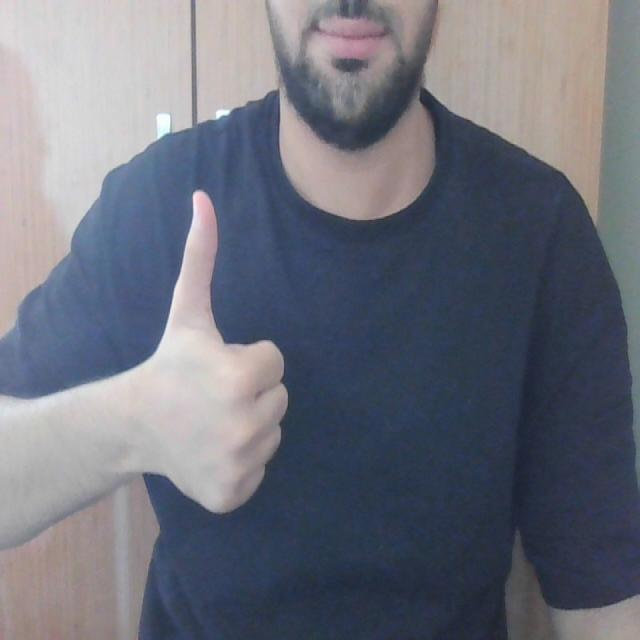Tamam: (141, 183, 294, 533)
